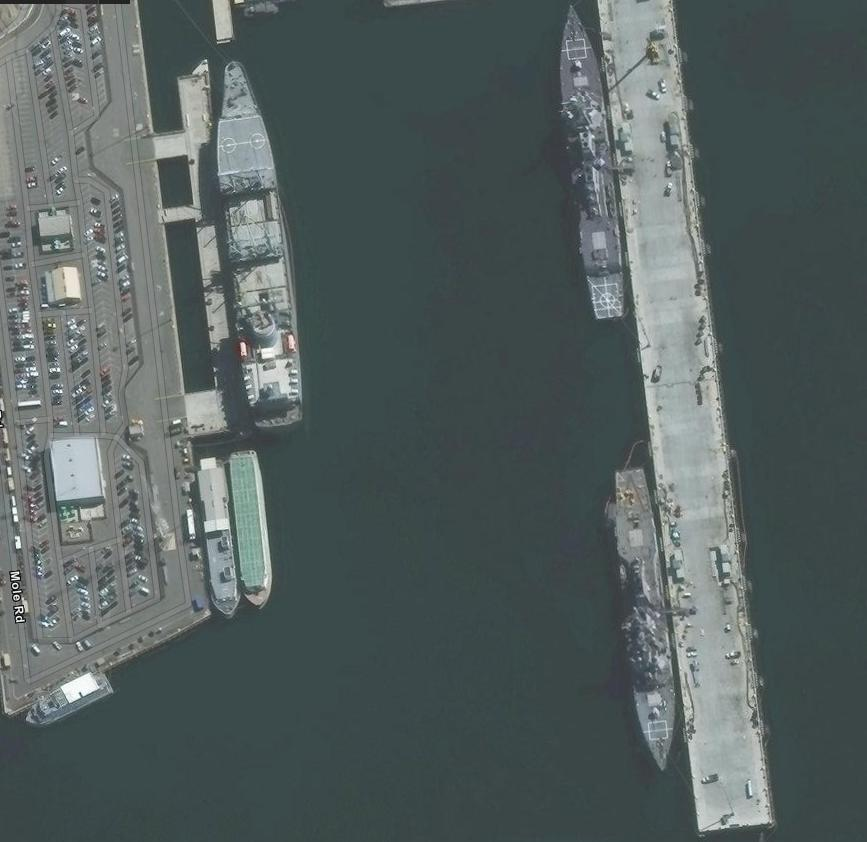fregate: (590, 462, 682, 783), (548, 2, 627, 325)
tender: (193, 53, 337, 433)
